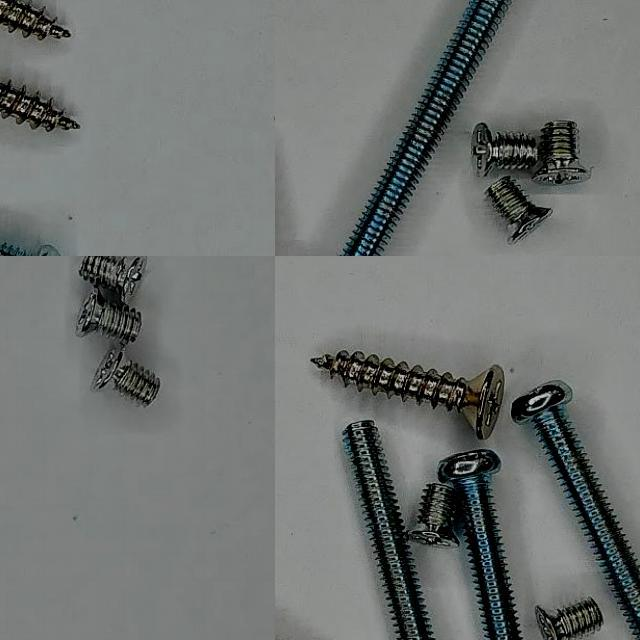Screw: (341, 0, 513, 256), (512, 381, 640, 638), (344, 421, 433, 640), (310, 350, 505, 439), (438, 450, 522, 640), (487, 176, 554, 244), (0, 79, 80, 131), (92, 348, 161, 407), (533, 121, 593, 183), (473, 123, 540, 176), (77, 292, 142, 344), (407, 484, 460, 547), (536, 598, 605, 640), (0, 0, 71, 40), (80, 256, 148, 296)
